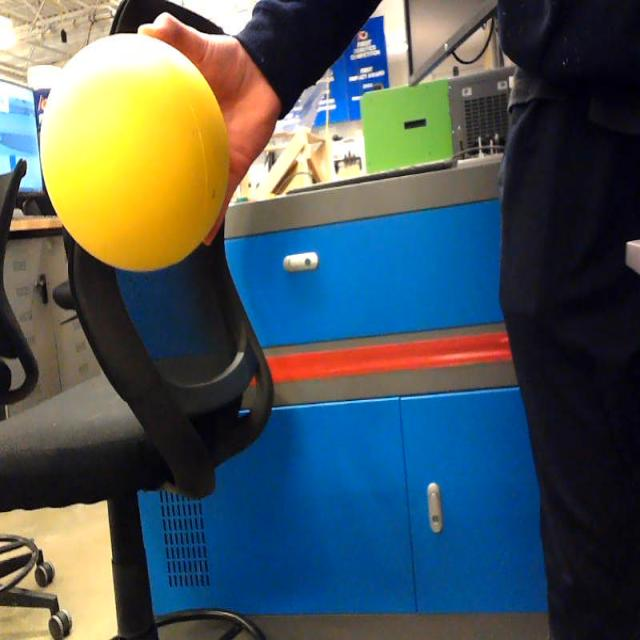Fuel: (40, 33, 229, 272)
